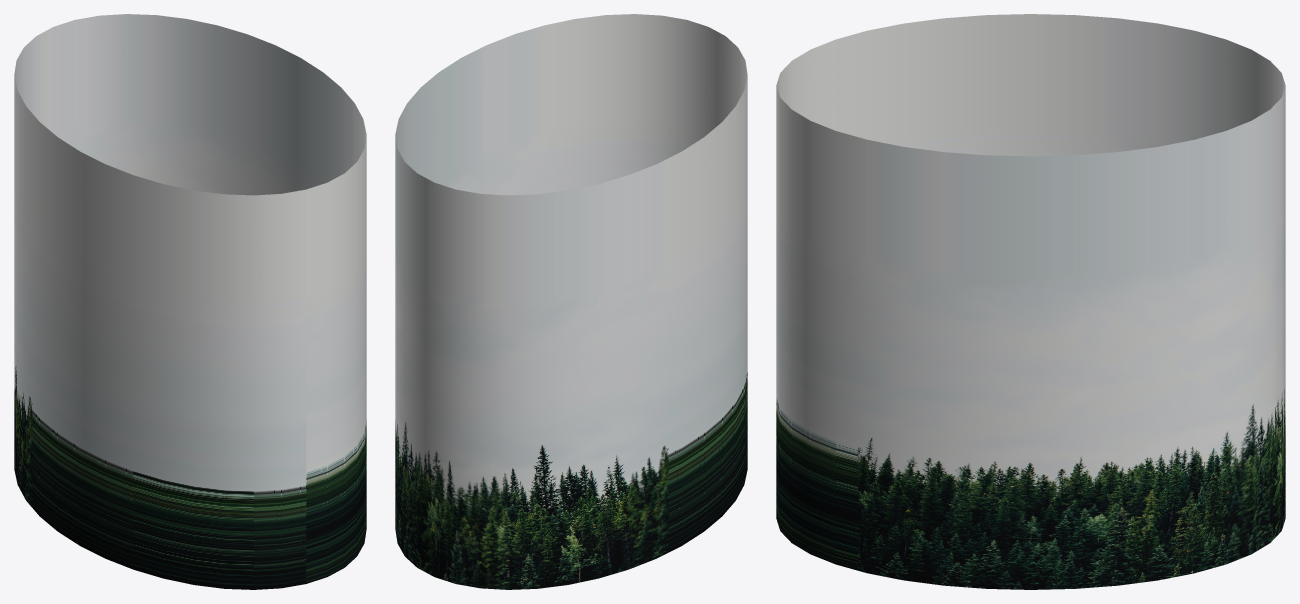
File: skybox_1.fbx
3 views of the same model, side by side, from view 1: azimuth 30°, elevation 25°; view 2: azimuth 150°, elevation 25°; view 3: azimuth 270°, elevation 25° (orthographic). The views are drawn at different scales.
Parts seen in each view (by area): view 1: Cilindro; view 2: Cilindro; view 3: Cilindro.
Boxes of the visible parts, box(x1,y1,x2,y2) form: Cilindro: box(14, 14, 366, 589); Cilindro: box(395, 14, 747, 589); Cilindro: box(776, 14, 1285, 589).
Size of the model in its own units: 8549 by 12138 by 12918.
